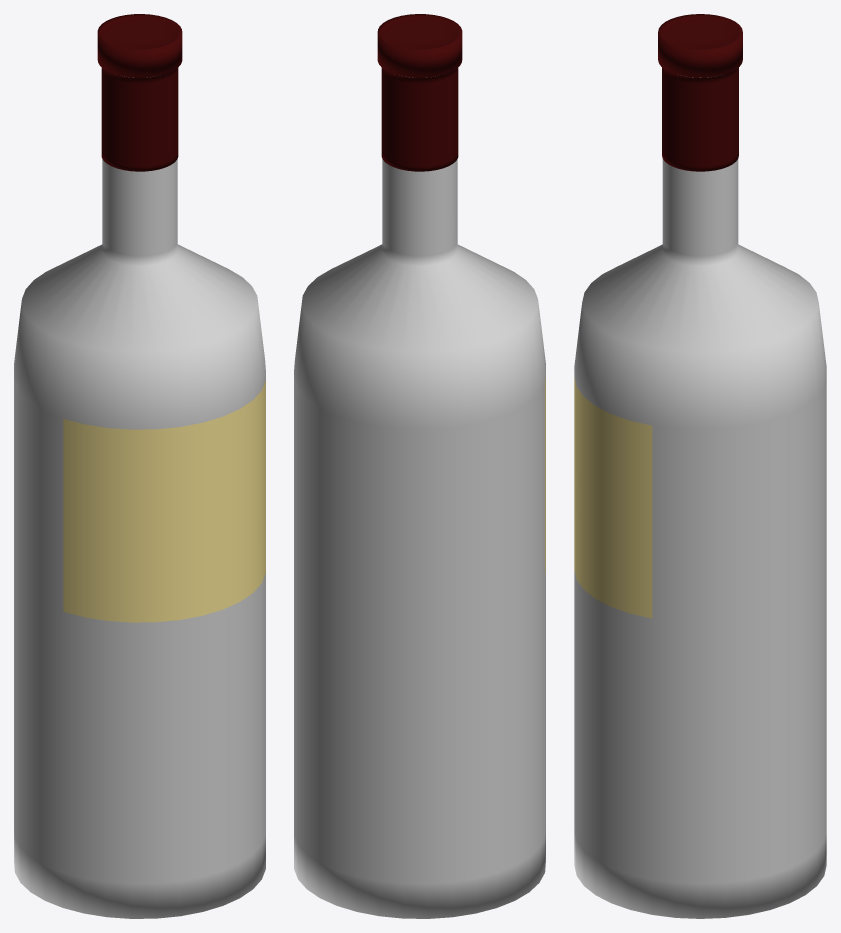
Rendered from wineBottle.fbx.
3 views of the same model, side by side, from view 1: azimuth 30°, elevation 25°; view 2: azimuth 150°, elevation 25°; view 3: azimuth 270°, elevation 25° (orthographic).
Visible parts, largest first — view 1: wineBottle; view 2: wineBottle; view 3: wineBottle.
Boxes of the visible parts, x1,y1,x2,y2 form: wineBottle: (14,14,265,918); wineBottle: (294,14,545,918); wineBottle: (574,14,826,918).
Bounding box in the file's own units: 13.75 × 50.13 × 13.75.
